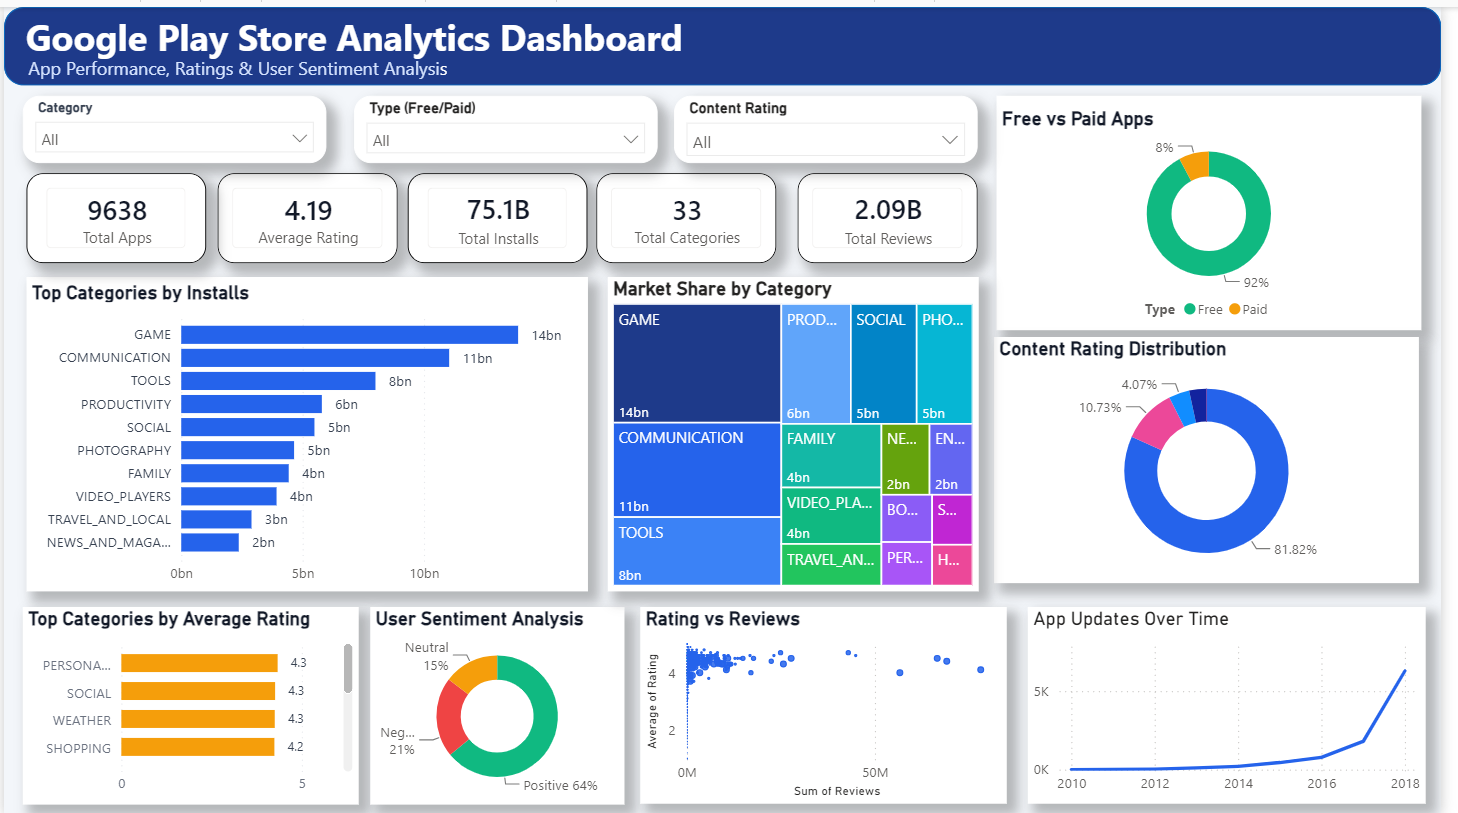

This screenshot's page, from the dashboard's own definition file:
{"tool":"powerbi","page":{"name":"Executive Overview","canvas":[1280,720],"ordinal":0},"visuals":[{"type":"shape","box":[0,0,1280,70],"z":0},{"type":"textbox","box":[15,0,612.5,54.2],"z":1000},{"type":"textbox","box":[16.7,38.3,393.3,31.7],"z":2000},{"type":"cardVisual","fields":{"Data":["playstore_df.Average Rating"]},"box":[190,148.6,160,80],"z":3000},{"type":"cardVisual","fields":{"Data":["playstore_df.Total Installs"]},"box":[360,148.6,160,80],"z":4000},{"type":"cardVisual","fields":{"Data":["playstore_df.Total Categories"]},"box":[527.1,148.6,160,80],"z":5000},{"type":"cardVisual","fields":{"Data":["playstore_df.Total Reviews"]},"box":[707.1,148.6,160,80],"z":6000},{"type":"clusteredBarChart","title":"Top Categories by Installs","fields":{"Category":["playstore_df.Category"],"Y":["Sum(playstore_df.Installs)"]},"box":[20,240,500,280],"z":7000},{"type":"donutChart","title":"Free vs Paid Apps","fields":{"Category":["playstore_df.Type"],"Y":["CountNonNull(playstore_df.App)"]},"box":[884.3,78.6,378.6,208.6],"z":8000},{"type":"clusteredBarChart","title":"Top Categories by Average Rating","fields":{"Category":["playstore_df.Category"],"Y":["playstore_df.Average Rating"]},"box":[16.5,533.8,298.9,175.6],"z":9000},{"type":"donutChart","title":"Content Rating Distribution","fields":{"Category":["playstore_df.Content Rating"],"Y":["CountNonNull(playstore_df.App)"]},"box":[882.1,293.9,378.7,219.6],"z":10000},{"type":"donutChart","title":"User Sentiment Analysis","fields":{"Category":["reviews_df.Sentiment"],"Y":["CountNonNull(reviews_df.Sentiment)"]},"box":[326.3,534.3,226.4,175.6],"z":11000},{"type":"slicer","fields":{"Values":["playstore_df.Category"]},"box":[17.1,78.6,270,60],"z":12000},{"type":"slicer","fields":{"Values":["playstore_df.Type"]},"box":[311.4,78.6,270,60],"z":13000},{"type":"slicer","fields":{"Values":["playstore_df.Content Rating"]},"box":[597.1,78.6,270,60],"z":14000},{"type":"treemap","title":"Market Share by Category","fields":{"Group":["playstore_df.Category"],"Values":["Sum(playstore_df.Installs)"]},"box":[537.1,240,330,280],"z":15000},{"type":"scatterChart","title":"Rating vs Reviews","fields":{"Y":["Avg(playstore_df.Rating)"],"Size":["Sum(playstore_df.Installs)"],"Category":["playstore_df.App"],"X":["Sum(playstore_df.Reviews)"]},"box":[566.7,533.8,326.6,175],"z":16000},{"type":"lineChart","title":"App Updates Over Time","fields":{"Category":["playstore_df.Last Updated.Variation.Date Hierarchy.Year"],"Y":["CountNonNull(playstore_df.App)"]},"box":[911.2,533.8,354,175],"z":17000},{"type":"cardVisual","fields":{"Data":["playstore_df.Total Apps"]},"box":[20,148.6,160,80],"z":18000}]}

Visuals, with their boxes in screenshot pixels (x1, y1, x2, y2), scaled from the page's 1280x720 canvas onto the 1458x813 screenshot:
shape: (x1=0, y1=0, x2=1457, y2=79)
textbox: (x1=17, y1=0, x2=715, y2=61)
textbox: (x1=19, y1=43, x2=467, y2=79)
cardVisual - playstore_df.Average Rating: (x1=216, y1=168, x2=399, y2=258)
cardVisual - playstore_df.Total Installs: (x1=410, y1=168, x2=592, y2=258)
cardVisual - playstore_df.Total Categories: (x1=600, y1=168, x2=783, y2=258)
cardVisual - playstore_df.Total Reviews: (x1=805, y1=168, x2=988, y2=258)
"Top Categories by Installs" clusteredBarChart: (x1=23, y1=271, x2=592, y2=587)
"Free vs Paid Apps" donutChart: (x1=1007, y1=89, x2=1439, y2=324)
"Top Categories by Average Rating" clusteredBarChart: (x1=19, y1=603, x2=359, y2=801)
"Content Rating Distribution" donutChart: (x1=1005, y1=332, x2=1436, y2=580)
"User Sentiment Analysis" donutChart: (x1=372, y1=603, x2=630, y2=802)
slicer - playstore_df.Category: (x1=19, y1=89, x2=327, y2=157)
slicer - playstore_df.Type: (x1=355, y1=89, x2=662, y2=157)
slicer - playstore_df.Content Rating: (x1=680, y1=89, x2=988, y2=157)
"Market Share by Category" treemap: (x1=612, y1=271, x2=988, y2=587)
"Rating vs Reviews" scatterChart: (x1=646, y1=603, x2=1018, y2=800)
"App Updates Over Time" lineChart: (x1=1038, y1=603, x2=1441, y2=800)
cardVisual - playstore_df.Total Apps: (x1=23, y1=168, x2=205, y2=258)
